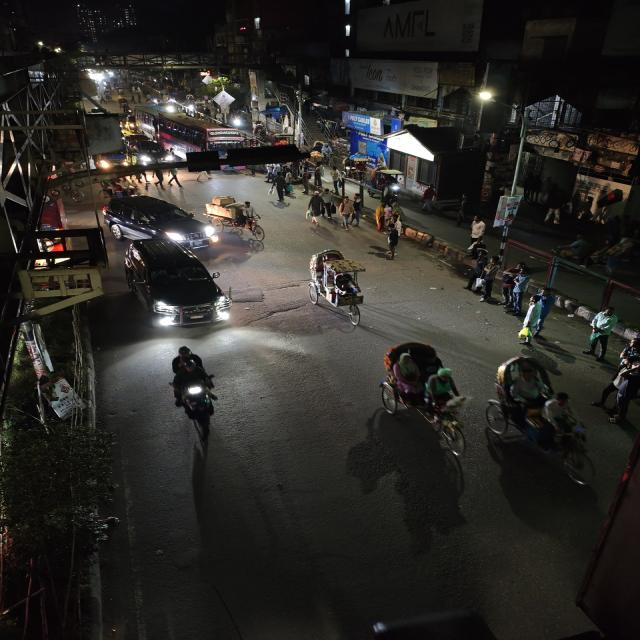bus: (150, 112, 246, 160)
car: (121, 238, 239, 330), (121, 238, 238, 330), (100, 193, 218, 250), (122, 136, 176, 166)
motorcycle: (162, 343, 227, 447)
pedestrian: (598, 349, 640, 425), (517, 293, 556, 345), (587, 306, 619, 360), (268, 174, 295, 206), (303, 189, 325, 228), (383, 224, 405, 259), (508, 260, 532, 292), (477, 274, 499, 304), (338, 195, 356, 231), (498, 272, 517, 306), (303, 160, 326, 188), (463, 262, 484, 292), (468, 216, 490, 243), (351, 192, 366, 226)
pickup_van: (94, 149, 130, 171)
rickshaw: (489, 351, 600, 477), (369, 337, 476, 448), (299, 246, 373, 330), (205, 198, 266, 244)
